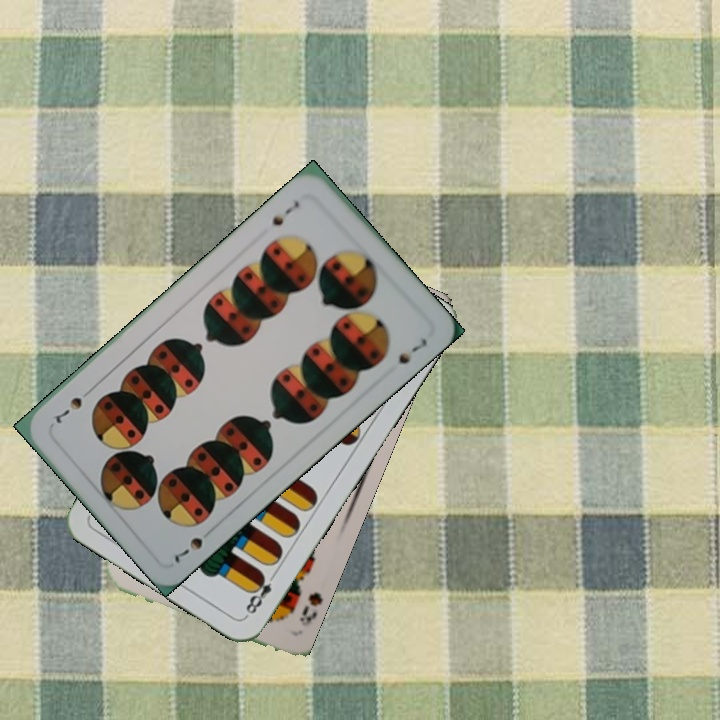E8: (241, 567, 280, 619)
S7: (170, 533, 206, 565), (268, 196, 302, 229)
S8: (295, 587, 324, 629)
